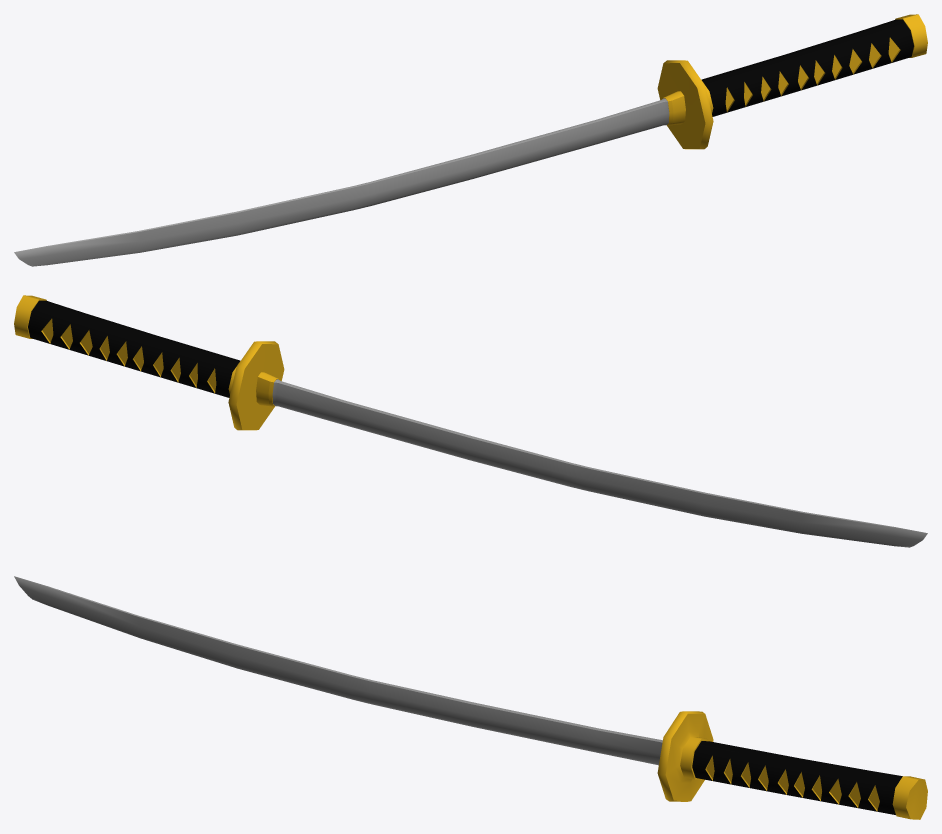
Rendered from Katana.fbx.
3 renders of one model, top to bottom at view 1: azimuth 30°, elevation 25°; view 2: azimuth 150°, elevation 25°; view 3: azimuth 330°, elevation 25°, orthographic.
Visible parts, largest first — view 1: Cylinder; view 2: Cylinder; view 3: Cylinder.
Boxes of the visible parts, x1,y1,x2,y2 form: Cylinder: [14, 14, 927, 266]; Cylinder: [14, 295, 927, 547]; Cylinder: [14, 576, 927, 819].
Size of the model in its own units: 283 by 26.85 by 26.95.
